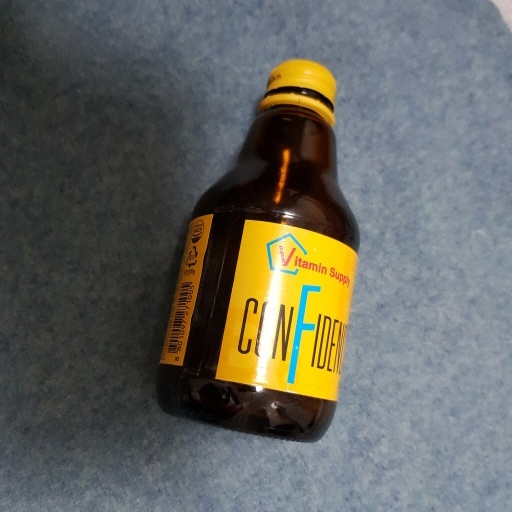Glass_3: (149, 59, 362, 444)
